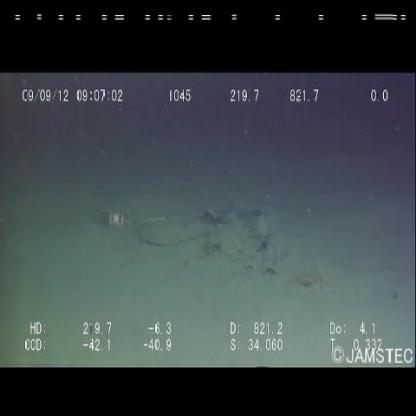Rác: (80, 201, 143, 237)
